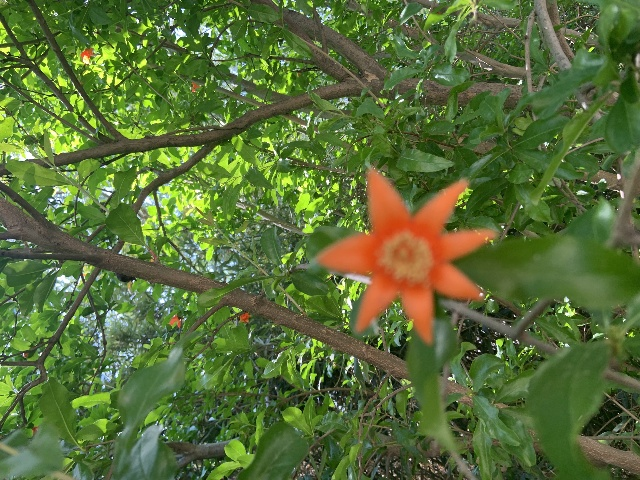bud: (22, 352, 28, 358)
flower: (317, 168, 493, 345), (80, 47, 94, 60), (168, 314, 181, 327), (239, 312, 250, 323), (190, 82, 200, 93)
